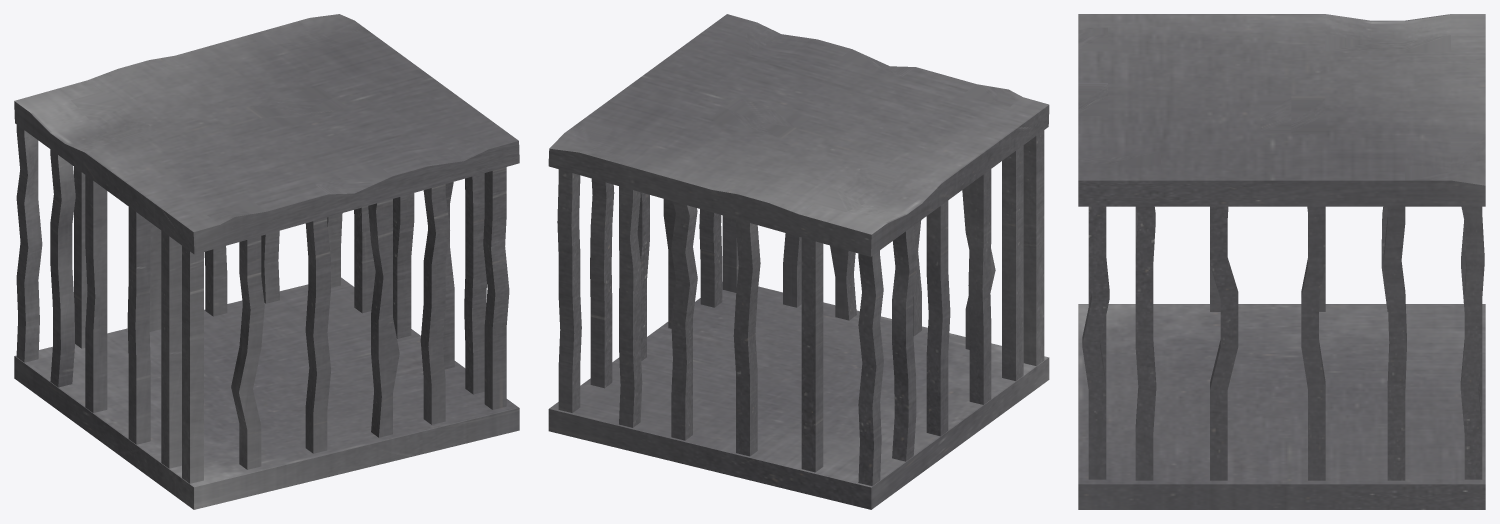
File: Jail.fbx
The picture shows the model from 3 angles, left to right: view 1: azimuth 30°, elevation 25°; view 2: azimuth 150°, elevation 25°; view 3: azimuth 270°, elevation 25°; orthographic projection. The views are drawn at different scales.
Parts seen in each view (by area): view 1: bars, Top, Bottom; view 2: bars, Top, Bottom; view 3: Top, Bottom, bars.
Part boxes in pixels (x1=…): bars: x1=16, y1=125, x2=509, y2=483; Top: x1=14, y1=14, x2=519, y2=254; Bottom: x1=14, y1=277, x2=519, y2=509; bars: x1=557, y1=130, x2=1044, y2=486; Top: x1=548, y1=14, x2=1049, y2=256; Bottom: x1=548, y1=282, x2=1049, y2=509; Top: x1=1078, y1=14, x2=1485, y2=206; Bottom: x1=1078, y1=304, x2=1485, y2=509; bars: x1=1082, y1=206, x2=1484, y2=480.
Bounding box in the file's own units: 9.63 × 8.18 × 9.18.
1 material, 1 textured.
